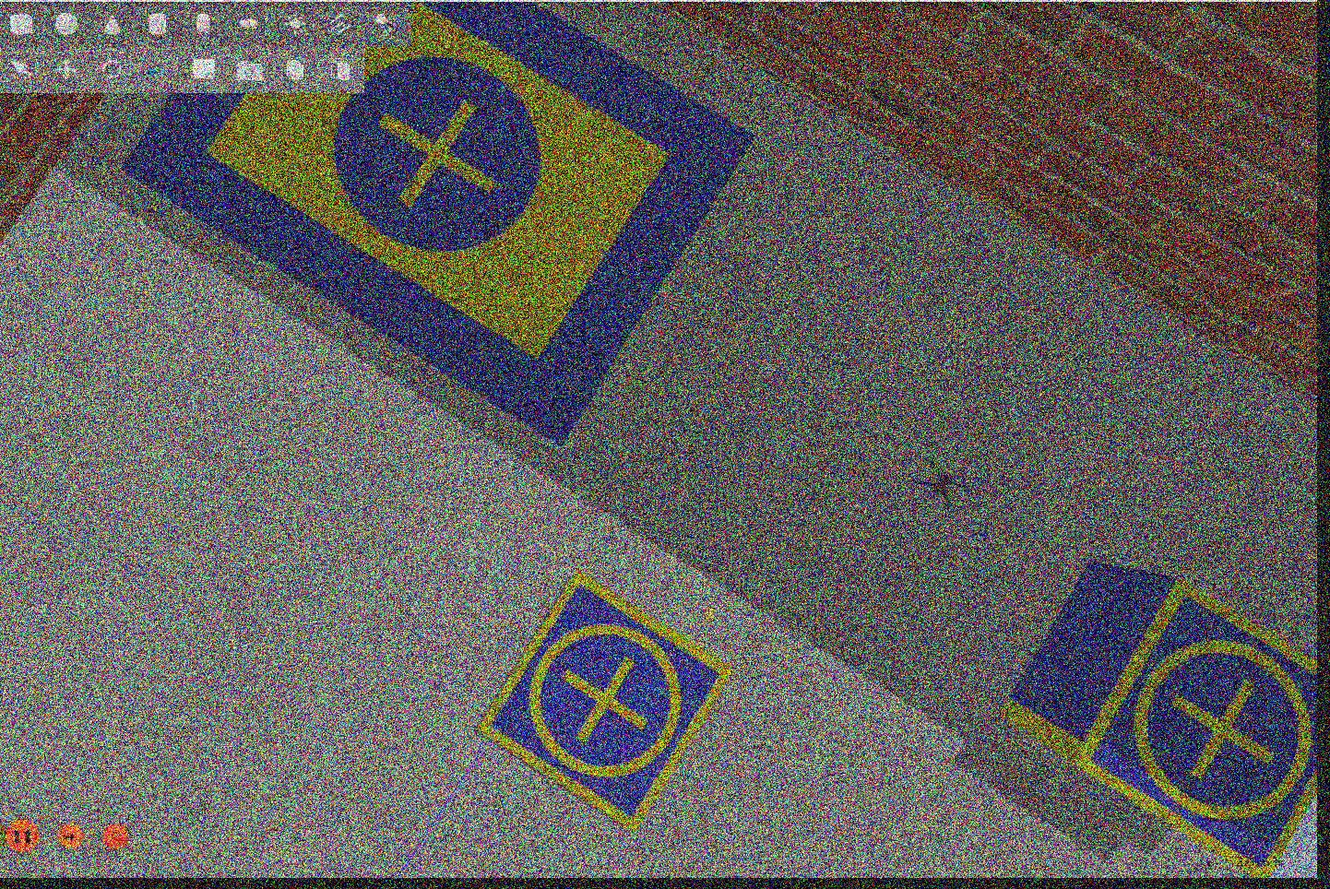large_base: (122, 1, 760, 439)
small_base: (1070, 579, 1319, 883), (475, 573, 737, 836)
